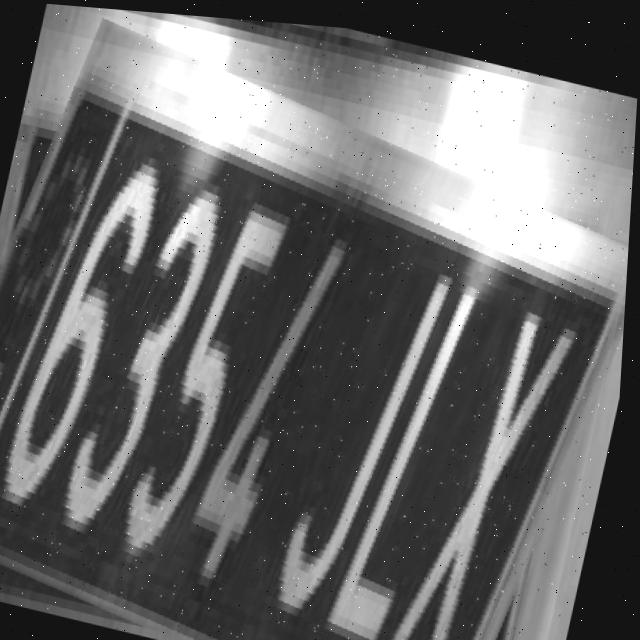LicensePlate: (0, 24, 639, 640)
